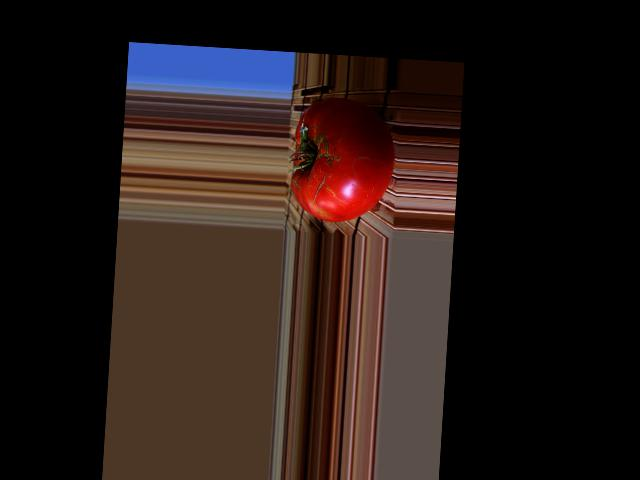tomato: (289, 95, 396, 224)
